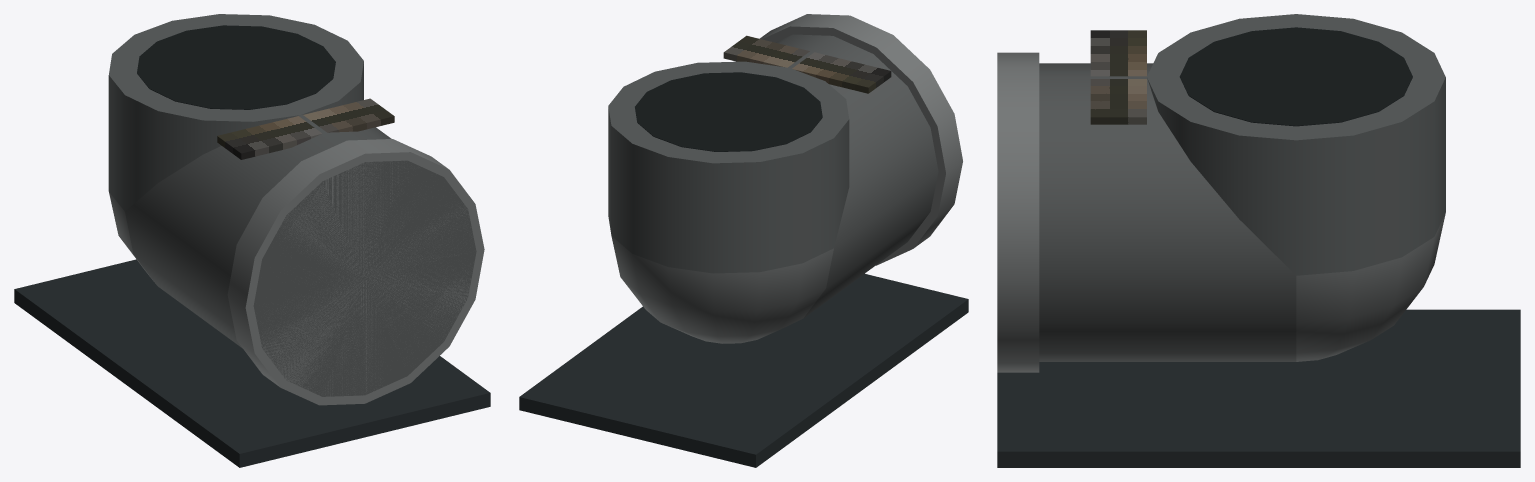
The model's file is CMU3DReduxDisposalTrunk.glb.
3 views of the same model, side by side, from view 1: azimuth 30°, elevation 25°; view 2: azimuth 150°, elevation 25°; view 3: azimuth 270°, elevation 25° (orthographic). The views are drawn at different scales.
Visible parts, largest first — view 1: round S barrel, finite channel bottom, S coupling, upright trunk throat, dark throat recess, source routing plate, curved closed junction; view 2: finite channel bottom, upright trunk throat, round S barrel, curved closed junction, dark throat recess, S coupling, source routing plate; view 3: finite channel bottom, round S barrel, upright trunk throat, dark throat recess, S coupling, curved closed junction, source routing plate.
Boxes of the visible parts, x1,y1,x2,y2 form: round S barrel: (125, 114, 476, 396); finite channel bottom: (14, 259, 490, 467); S coupling: (227, 139, 484, 405); upright trunk throat: (108, 14, 363, 211); dark throat recess: (137, 25, 335, 109); source routing plate: (217, 98, 394, 159); curved closed junction: (109, 192, 155, 283); finite channel bottom: (519, 273, 968, 467); upright trunk throat: (608, 61, 849, 273); round S barrel: (775, 34, 938, 317); curved closed junction: (611, 236, 833, 343); dark throat recess: (635, 72, 822, 151); S coupling: (760, 14, 962, 265); source routing plate: (723, 35, 891, 93); finite channel bottom: (997, 309, 1520, 467); round S barrel: (1039, 63, 1296, 361); upright trunk throat: (1147, 14, 1445, 275); dark throat recess: (1179, 27, 1412, 126); S coupling: (997, 52, 1039, 372); curved closed junction: (1296, 213, 1445, 361); source routing plate: (1090, 30, 1146, 124).
Size of the model in its own units: 0.5625 by 0.608 by 0.875.
Materials: 7 (1 with a texture image).
